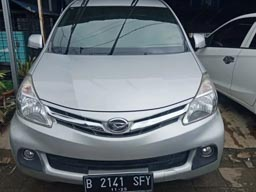plat: (83, 176, 153, 185)
